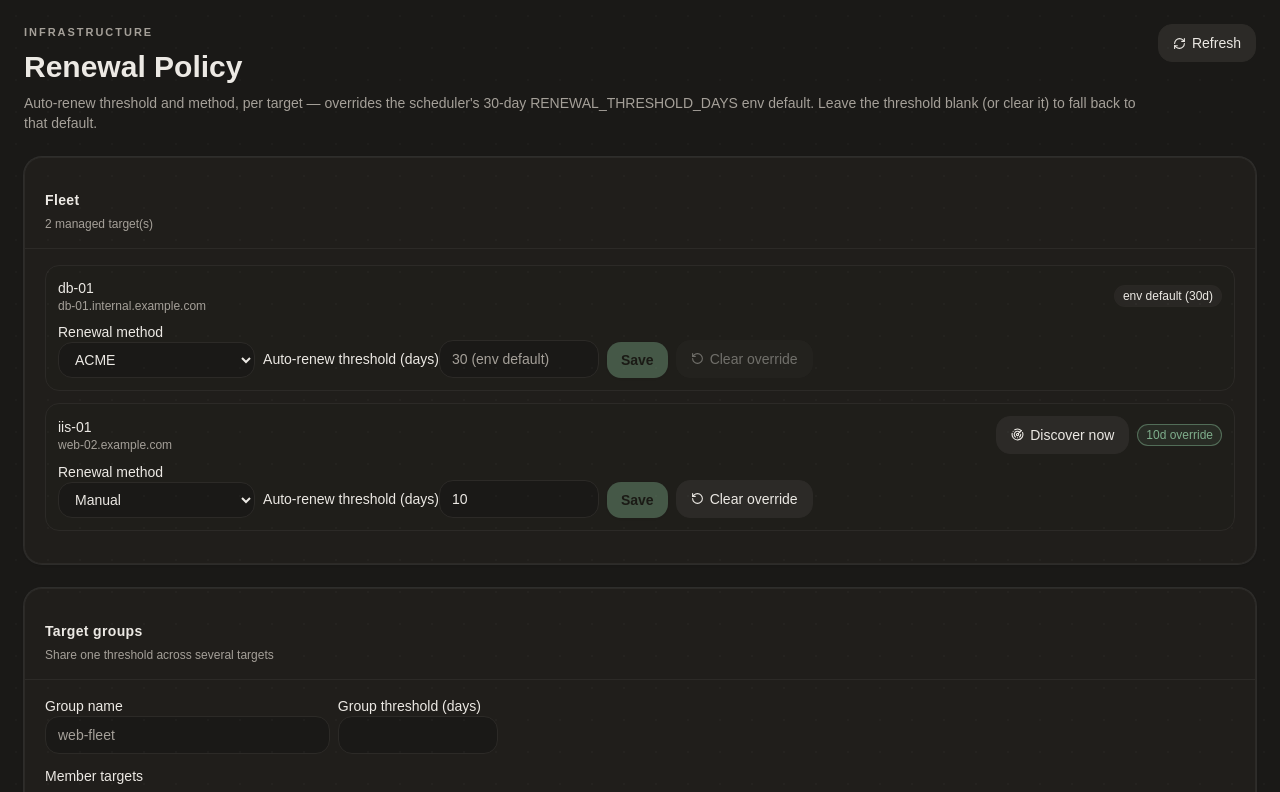
it: RenewalPolicy page — WinRM discover now (W18-12) › files a winrm scan for the target and hides the action elsewhere
This screenshot has width=1280, height=792.
Expected: the text "iis-01" is shown, [58,418,92,434]
Click the button with aria-label "iis-01 discover now" at (1063, 434), box [996,416,1129,454]
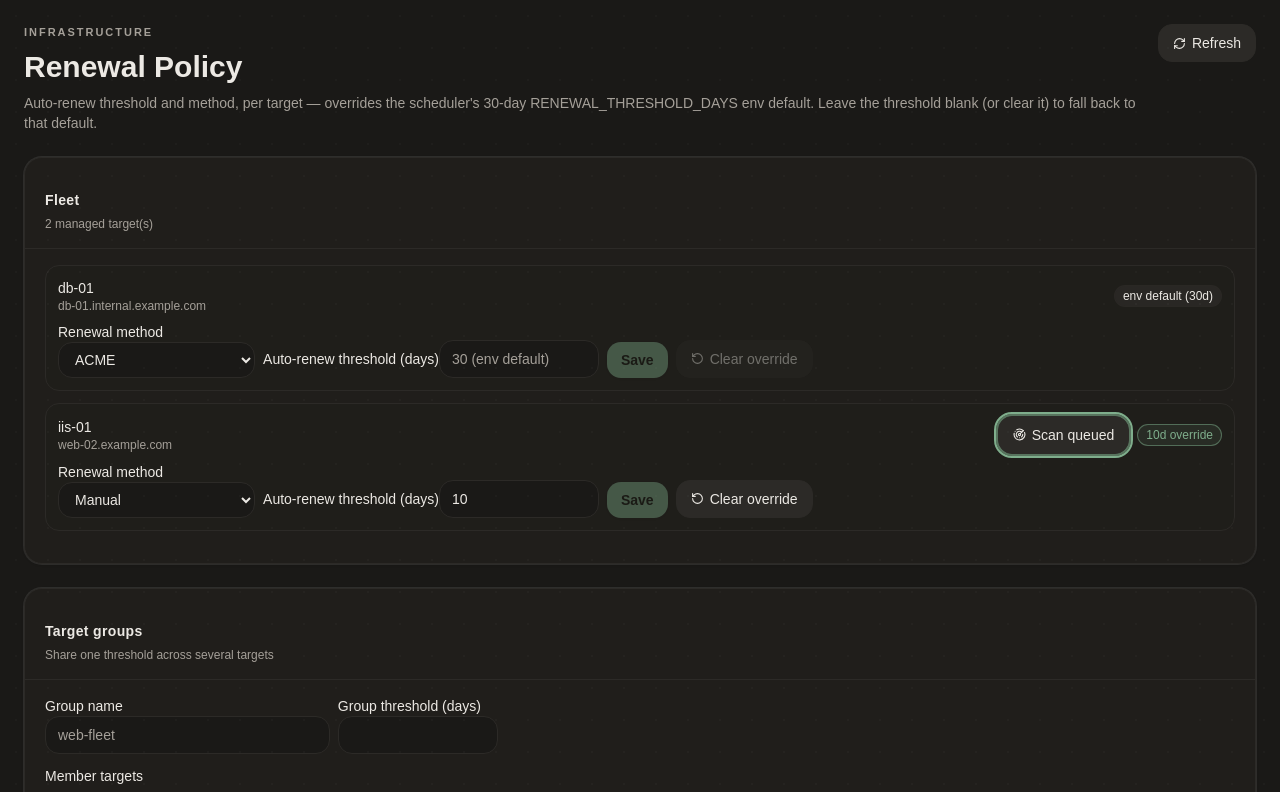
Result: the button "Scan queued" is shown at [998,416,1129,454]
